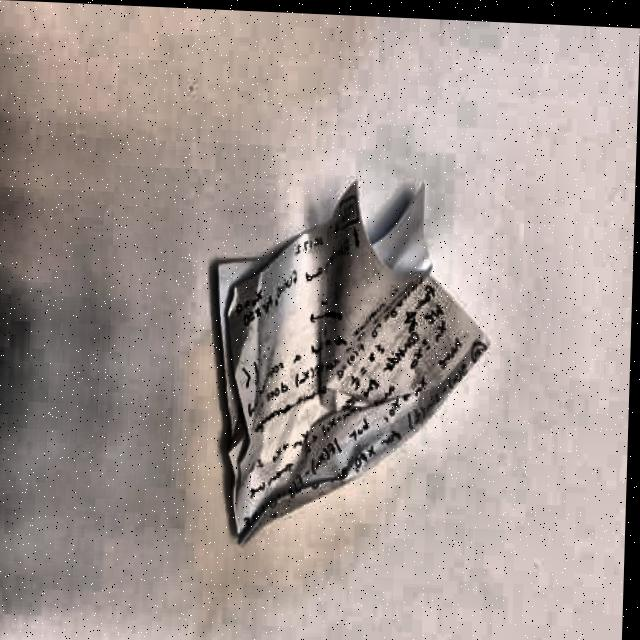paper: (210, 171, 501, 552)
